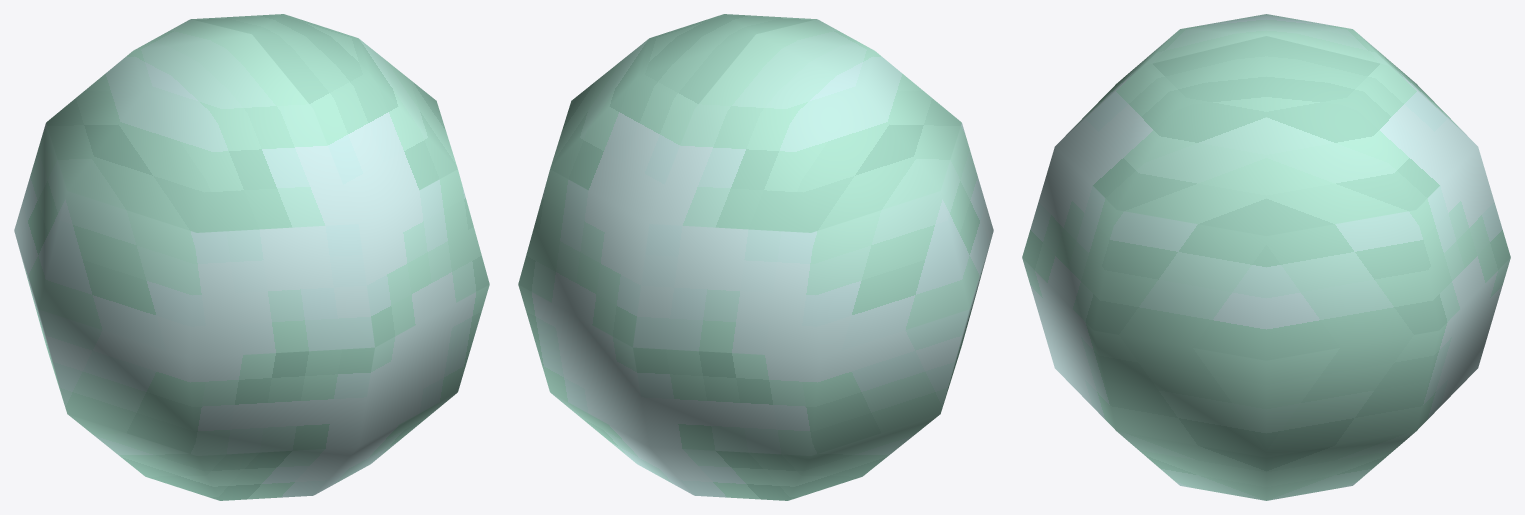
Rendered from pearl.obj.
3 renders of one model, left to right at view 1: azimuth 30°, elevation 25°; view 2: azimuth 150°, elevation 25°; view 3: azimuth 270°, elevation 25°, orthographic.
Visible parts, largest first — view 1: Sphere05; view 2: Sphere05; view 3: Sphere05.
Boxes of the visible parts, x1=… form: Sphere05: x1=14, y1=14, x2=489, y2=500; Sphere05: x1=518, y1=14, x2=993, y2=500; Sphere05: x1=1022, y1=14, x2=1510, y2=500.
Bounding box in the file's own units: 6 × 6 × 6.
